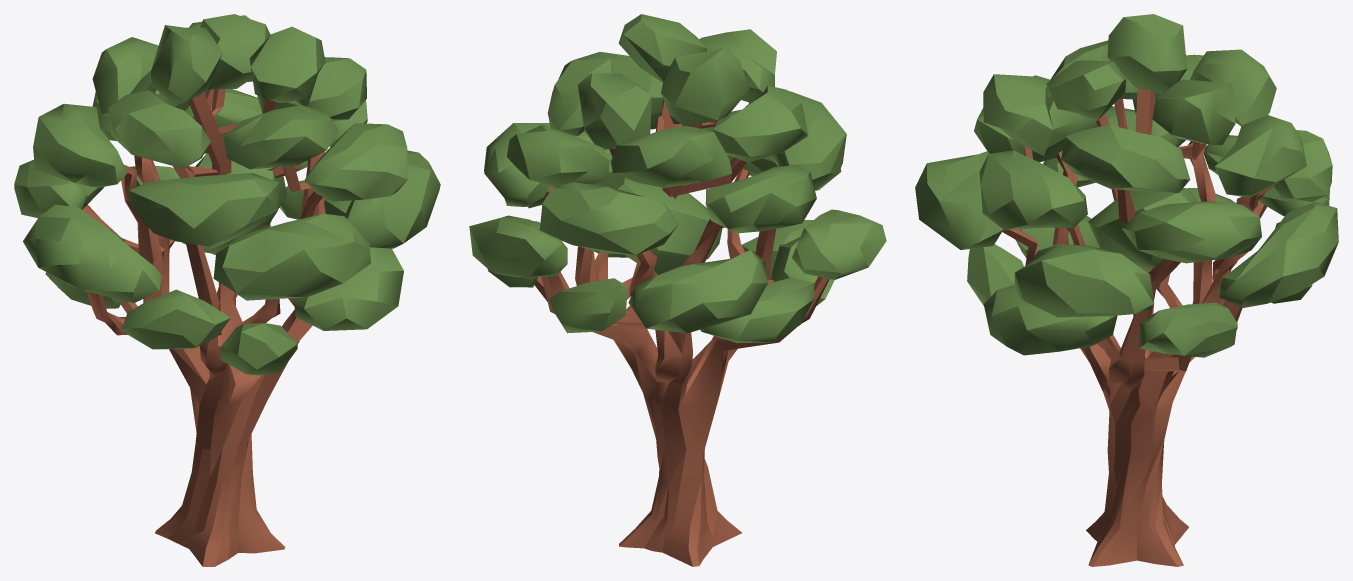
Rendered from Tree_1_Low.fbx.
The picture shows the model from 3 angles, left to right: view 1: azimuth 30°, elevation 25°; view 2: azimuth 150°, elevation 25°; view 3: azimuth 270°, elevation 25°; orthographic projection. The views are drawn at different scales.
Parts seen in each view (by area): view 1: Tree_1_Low; view 2: Tree_1_Low; view 3: Tree_1_Low.
Part boxes in pixels (<box>): Tree_1_Low: <box>14,14,440,566</box>; Tree_1_Low: <box>469,14,886,566</box>; Tree_1_Low: <box>915,14,1338,566</box>.
Bounding box in the file's own units: 160 × 208 × 156.
